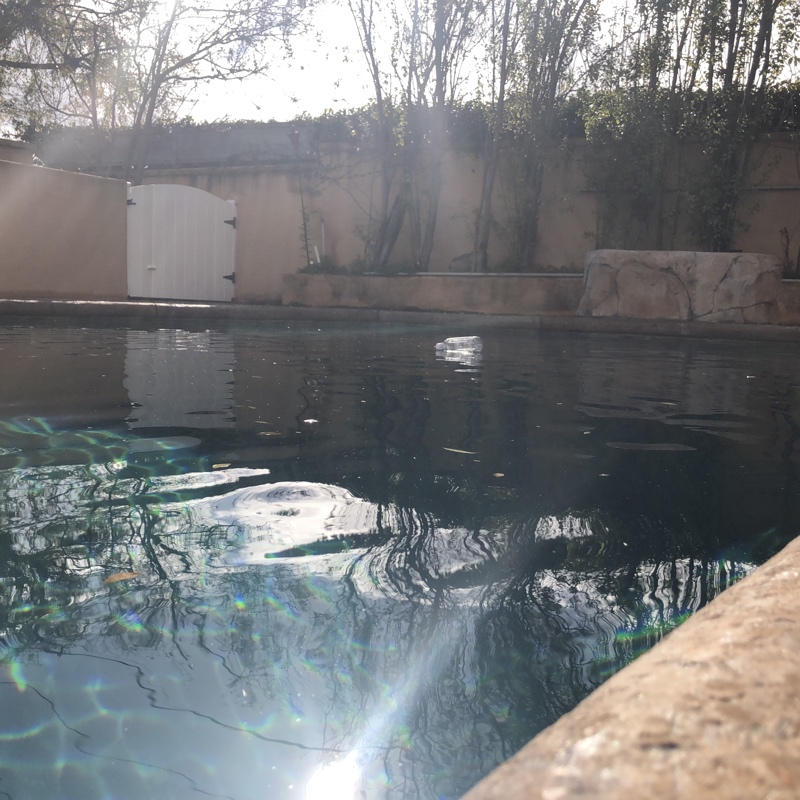Plastic Bottle: (433, 338, 482, 354)
